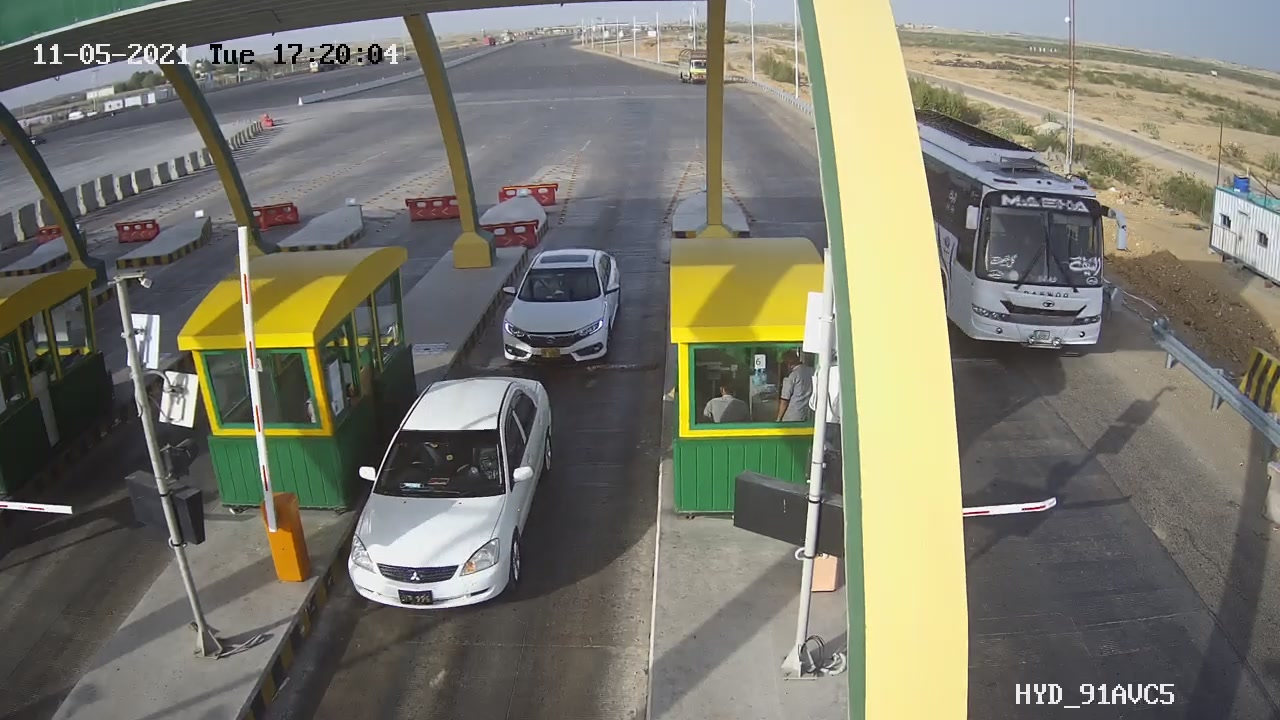F1: (334, 360, 569, 624), (489, 236, 637, 378)
